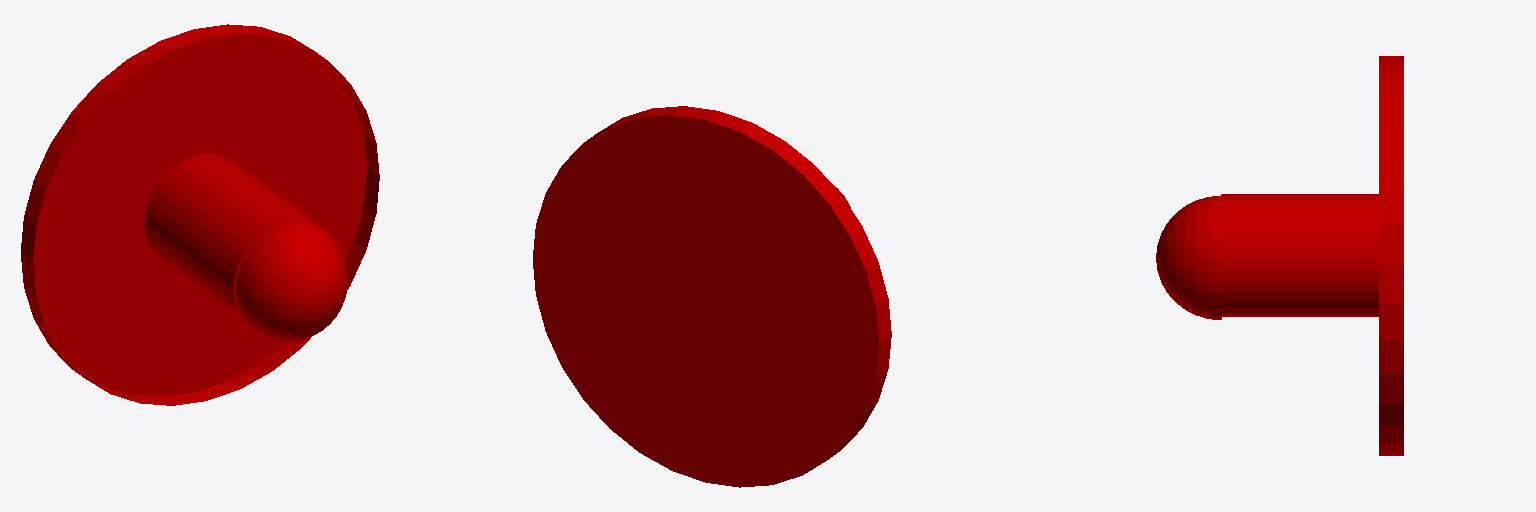
Rendered from maillet.obj.
The picture shows the model from 3 angles: view 1: azimuth 30°, elevation 25°; view 2: azimuth 150°, elevation 25°; view 3: azimuth 270°, elevation 25°; orthographic projection.
Parts seen in each view (by area): view 1: Cylinder; view 2: Cylinder; view 3: Cylinder.
Part boxes in pixels (left/top/right/bottom): Cylinder: left=21, top=24, right=379, bottom=405; Cylinder: left=533, top=106, right=891, bottom=487; Cylinder: left=1156, top=56, right=1403, bottom=455.
Bounding box in the file's own units: 20 × 20 × 12.39.